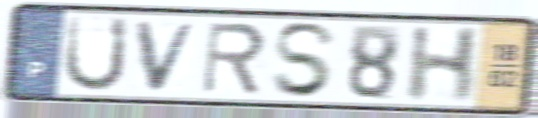8: (345, 22, 403, 103)
H: (402, 25, 484, 104)
R: (199, 21, 269, 97)
S: (269, 20, 340, 101)
U: (60, 13, 131, 94)
V: (133, 20, 203, 94)
